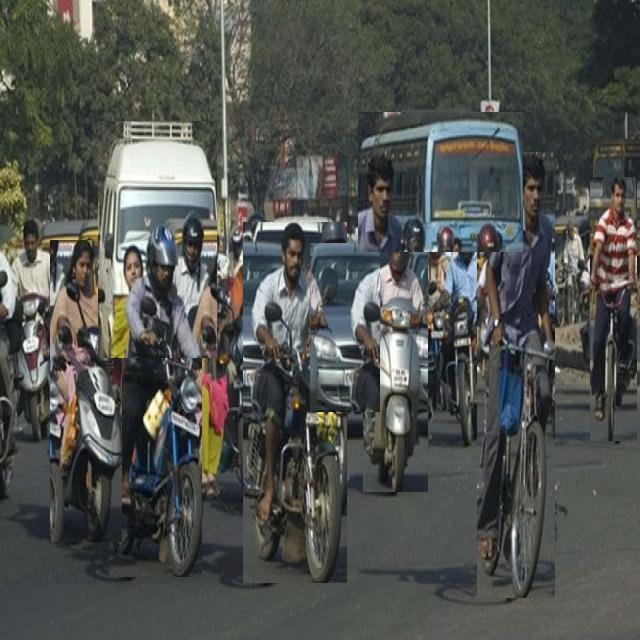bicycle: (478, 153, 555, 598), (591, 177, 637, 441)
bus: (99, 122, 217, 358), (359, 112, 523, 252)
car: (310, 243, 380, 412)
motorcycle: (244, 223, 347, 583), (109, 224, 202, 577), (50, 240, 122, 542), (364, 225, 428, 492), (435, 218, 485, 445)
